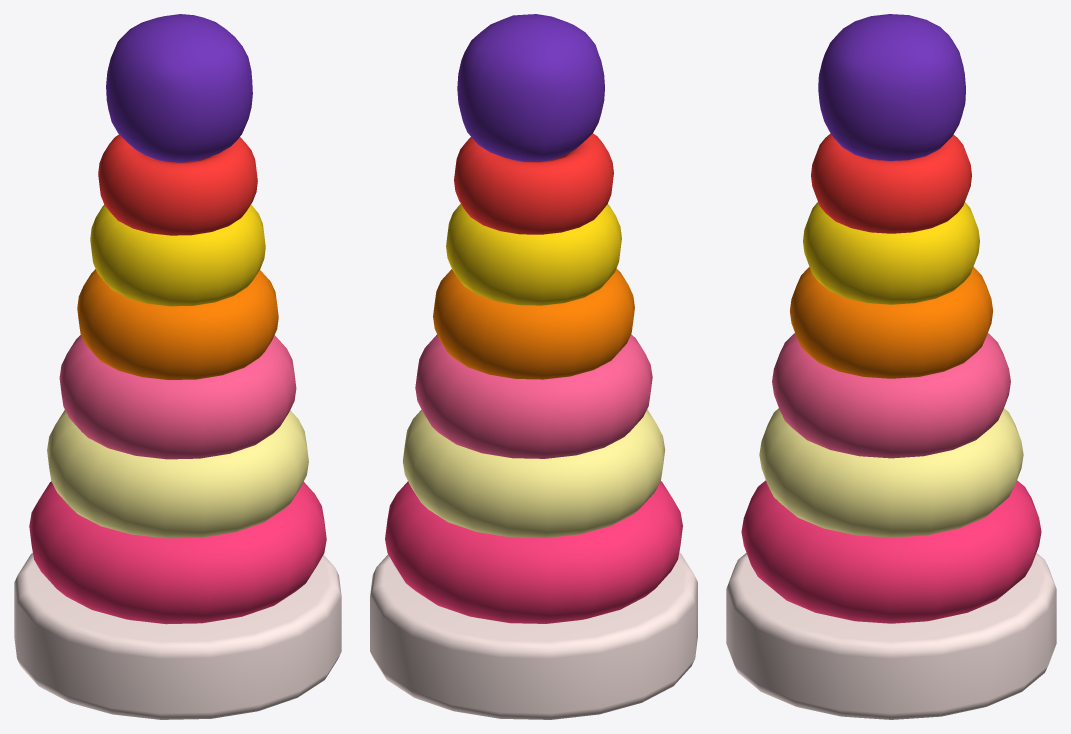
Rendered from Store_9_Toy_Pyramid_2.glb.
3 renders of one model, left to right at view 1: azimuth 30°, elevation 25°; view 2: azimuth 150°, elevation 25°; view 3: azimuth 270°, elevation 25°, orthographic.
Parts seen in each view (by area): view 1: Store_9_Toy_Pyramid_2; view 2: Store_9_Toy_Pyramid_2; view 3: Store_9_Toy_Pyramid_2.
Part boxes in pixels (box(x1,y1,x2,y2)): Store_9_Toy_Pyramid_2: box(14, 14, 341, 719); Store_9_Toy_Pyramid_2: box(370, 14, 697, 719); Store_9_Toy_Pyramid_2: box(726, 14, 1056, 719).
Size of the model in its own units: 0.4271 by 0.9041 by 0.4272.
1 material, 1 textured.
